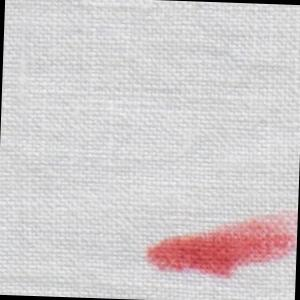Stain: (140, 202, 299, 289)
